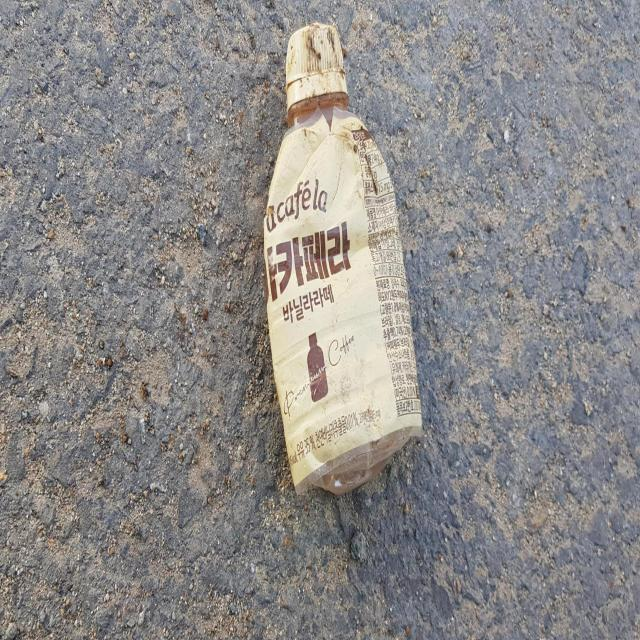plastic: (264, 22, 422, 494)
